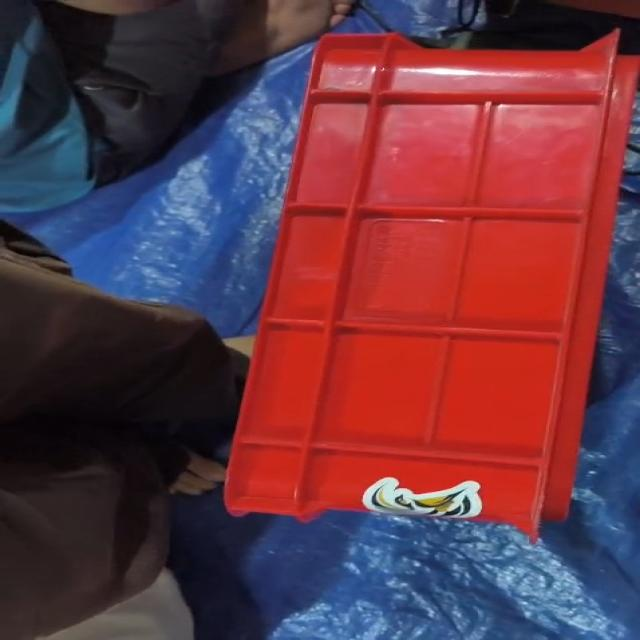red plastic box: (224, 28, 638, 541)
